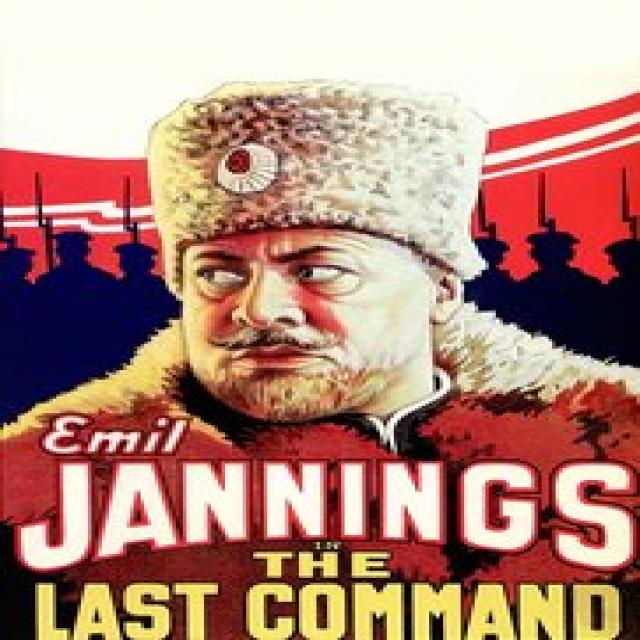movie-judul: (18, 408, 633, 640)
picture: (2, 67, 640, 640)
